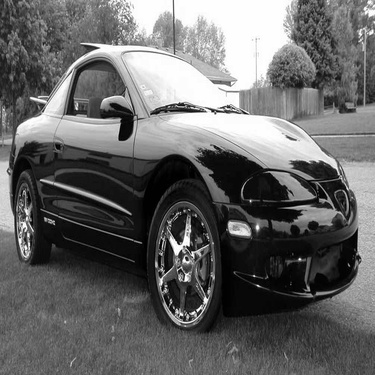car: (3, 36, 365, 340), (325, 98, 359, 119)
